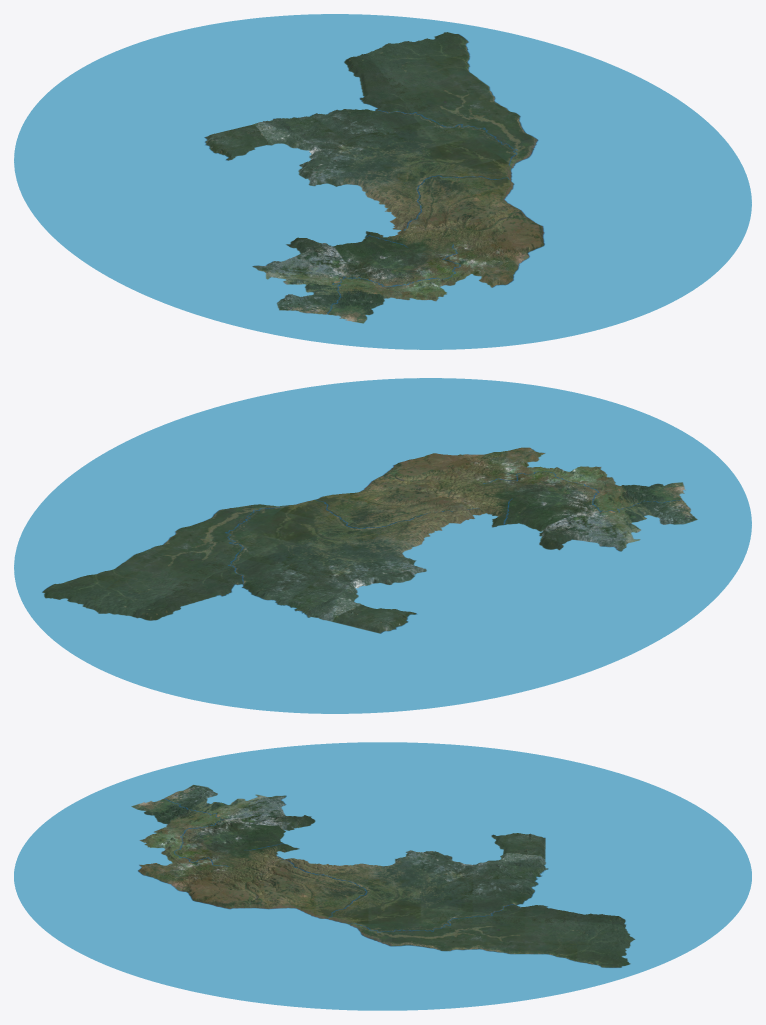
Rendered from COG-previa-terrain.glb.
3 renders of one model, top to bottom at view 1: azimuth 30°, elevation 25°; view 2: azimuth 150°, elevation 25°; view 3: azimuth 270°, elevation 25°, orthographic. The views are drawn at different scales.
Visible parts, largest first — view 1: República do Congo; view 2: República do Congo; view 3: República do Congo.
Boxes of the visible parts, x1=… form: República do Congo: x1=14, y1=14, x2=751, y2=349; República do Congo: x1=14, y1=378, x2=751, y2=713; República do Congo: x1=14, y1=742, x2=751, y2=1010.
Bounding box in the file's own units: 2.22 × 0.0186 × 2.57.
1 material, 1 textured.
